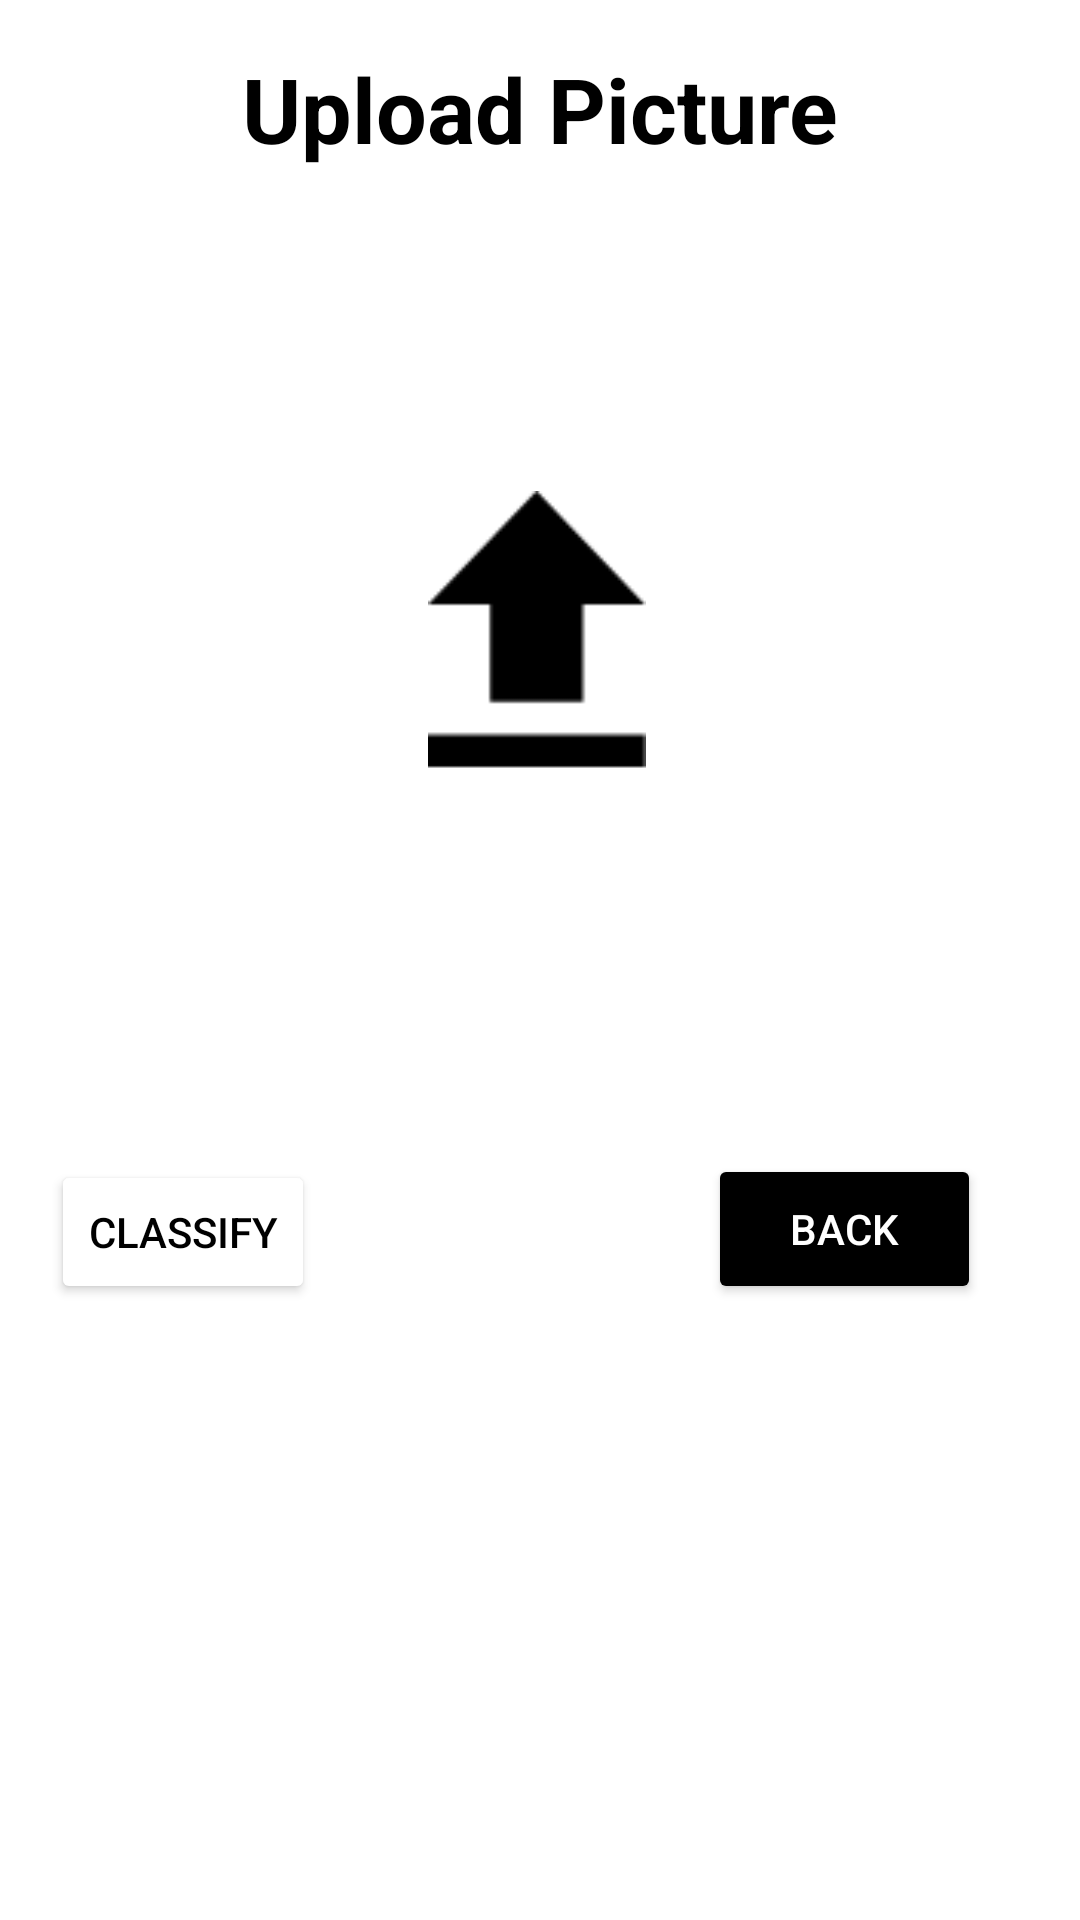

Icon bounding boxes for this 1080w x 1920h phone screenshot, format bbox=(x1, y1, x2, y2):
upload: bbox=(428, 491, 646, 768)
